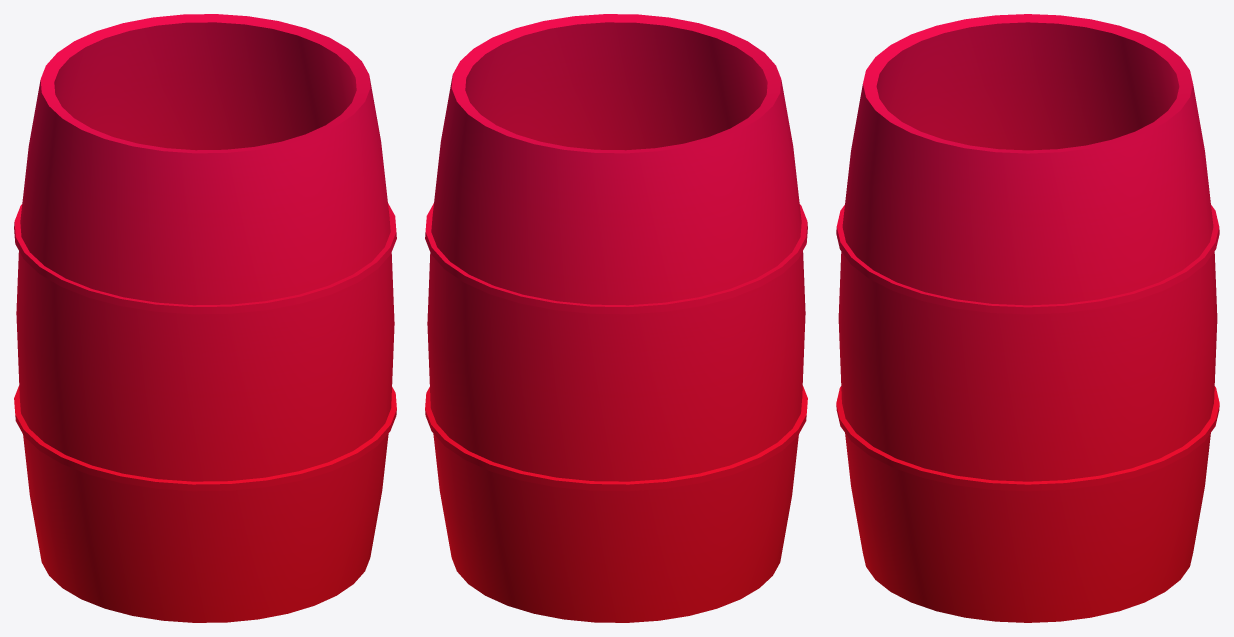
File: SM_Cubilete.fbx
3 renders of one model, left to right at view 1: azimuth 30°, elevation 25°; view 2: azimuth 150°, elevation 25°; view 3: azimuth 270°, elevation 25°, orthographic.
Visible parts, largest first — view 1: Cubilete; view 2: Cubilete; view 3: Cubilete.
Boxes of the visible parts, left/top/right/bottom form: Cubilete: left=14, top=14, right=396, bottom=622; Cubilete: left=425, top=14, right=807, bottom=622; Cubilete: left=836, top=14, right=1219, bottom=622.
Size of the model in its own units: 10.49 by 14.17 by 10.49.
